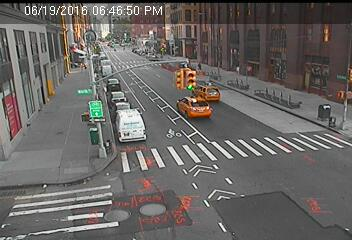neg: (210, 66, 234, 98)
pos: (191, 58, 204, 75)
